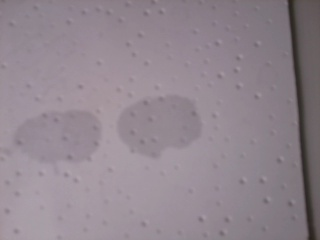Water_detected: (34, 101, 176, 161)
